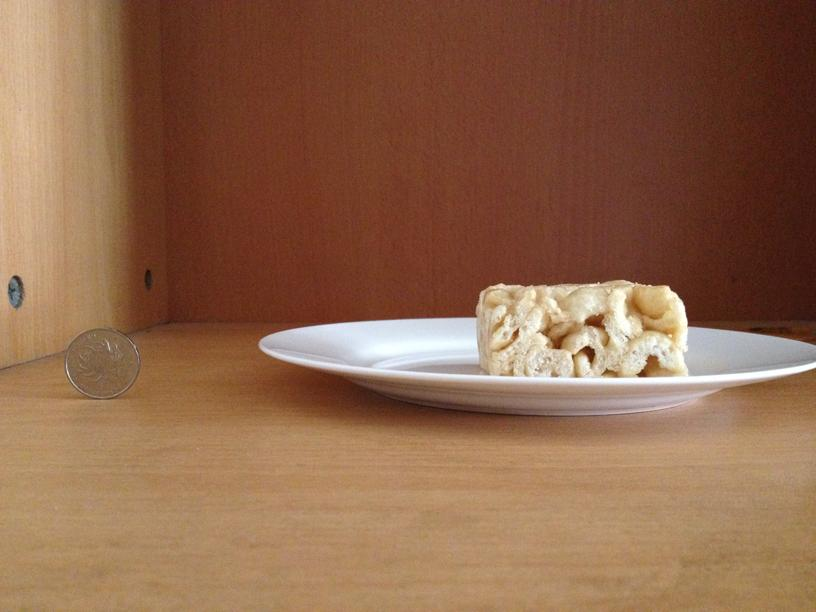coin: (61, 327, 142, 399)
sachima: (472, 278, 690, 377)
